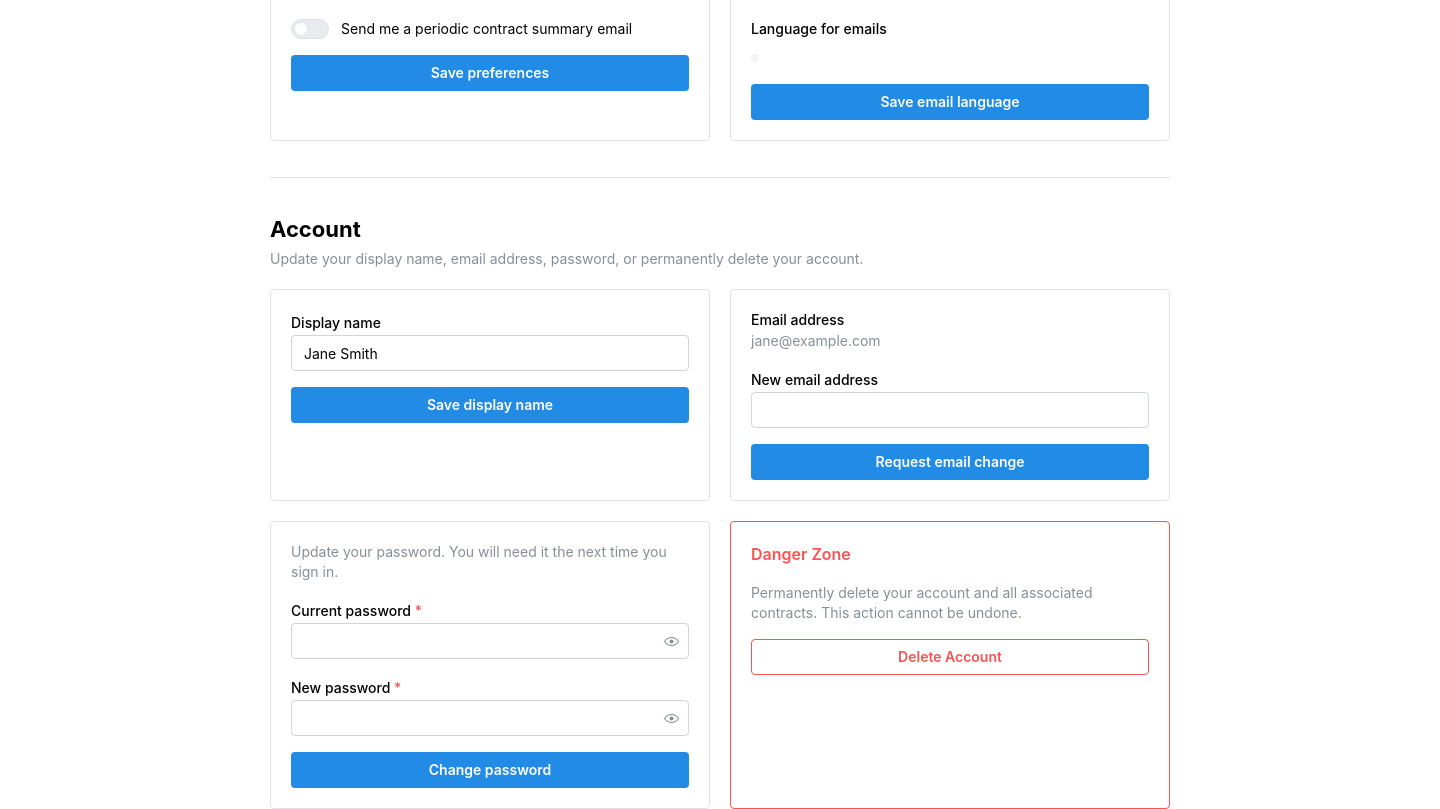
AccountSettings – Password section › shows an error toast when password change fails with 401
(page scrolled)
In the password field labelled "Current password *": (490, 641) [292,624,688,658], type "wrong-pass"
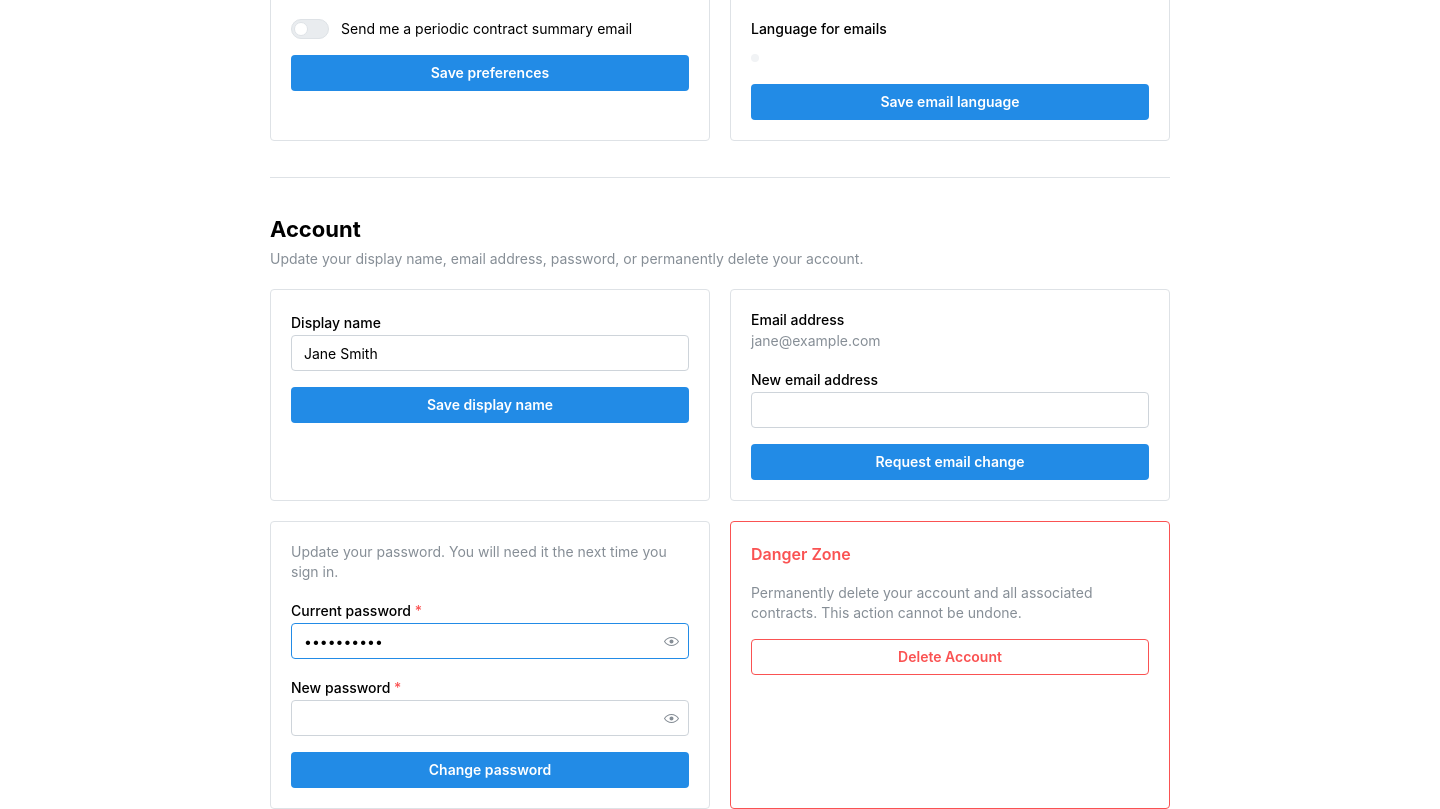
In the password field labelled "New password *": (490, 718) [292,701,688,735], type "new-pass-long"
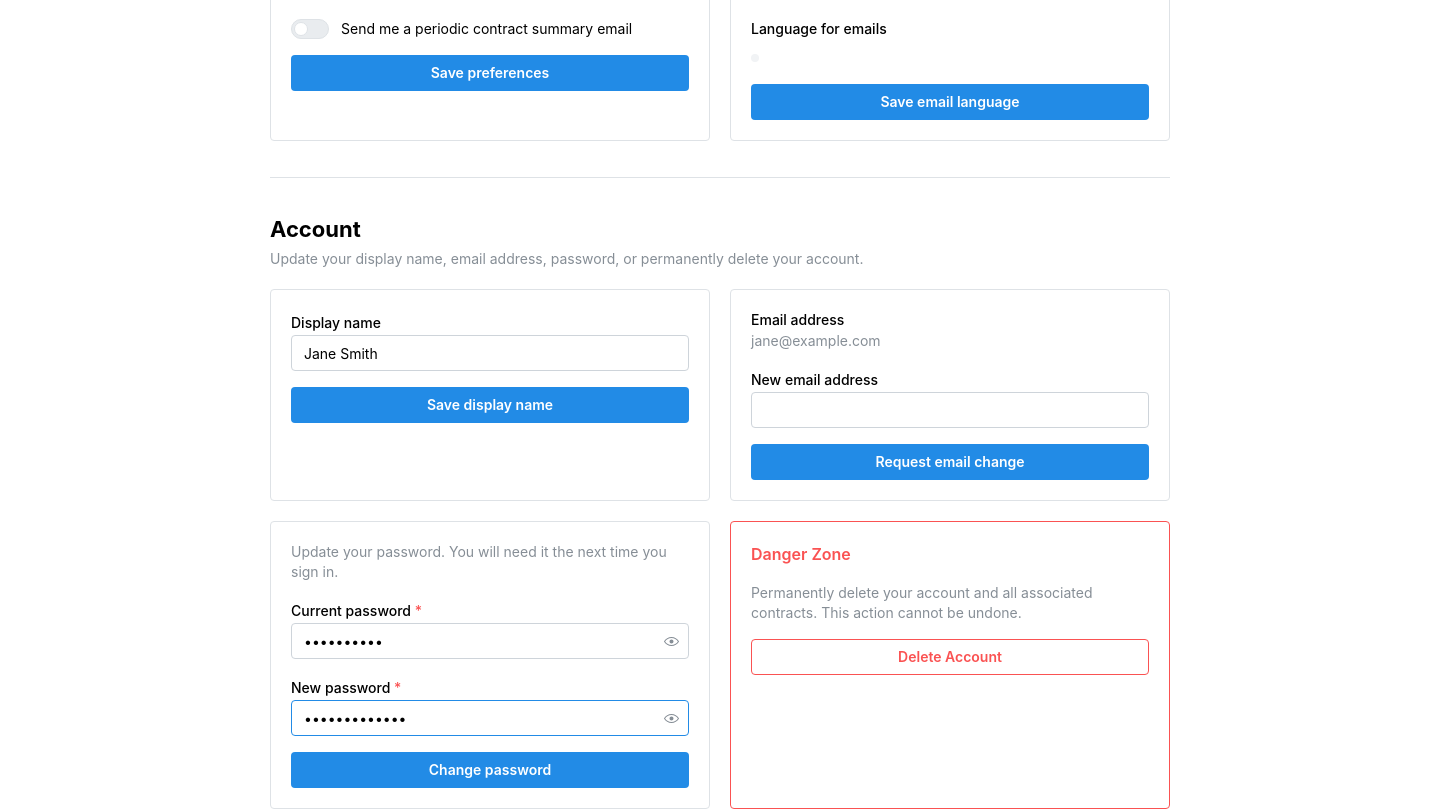
Click the button "Change password": (490, 770) [291,752,689,788]
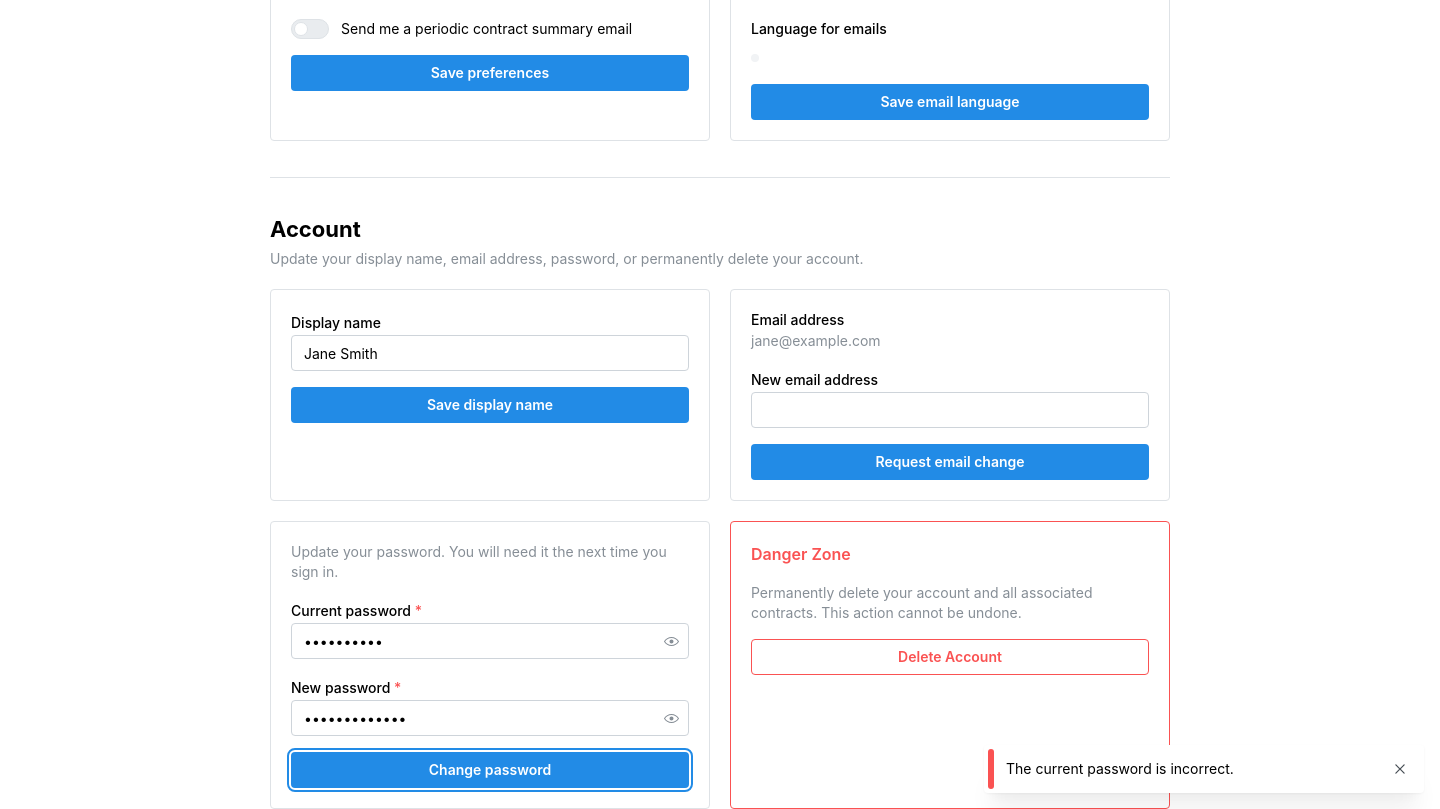
Expected: the text "The current password is incorrect." is shown, [1006,760,1234,777]
